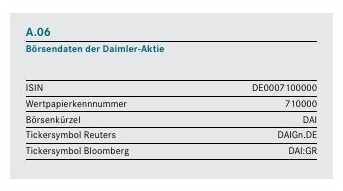table: (0, 0, 343, 191)
